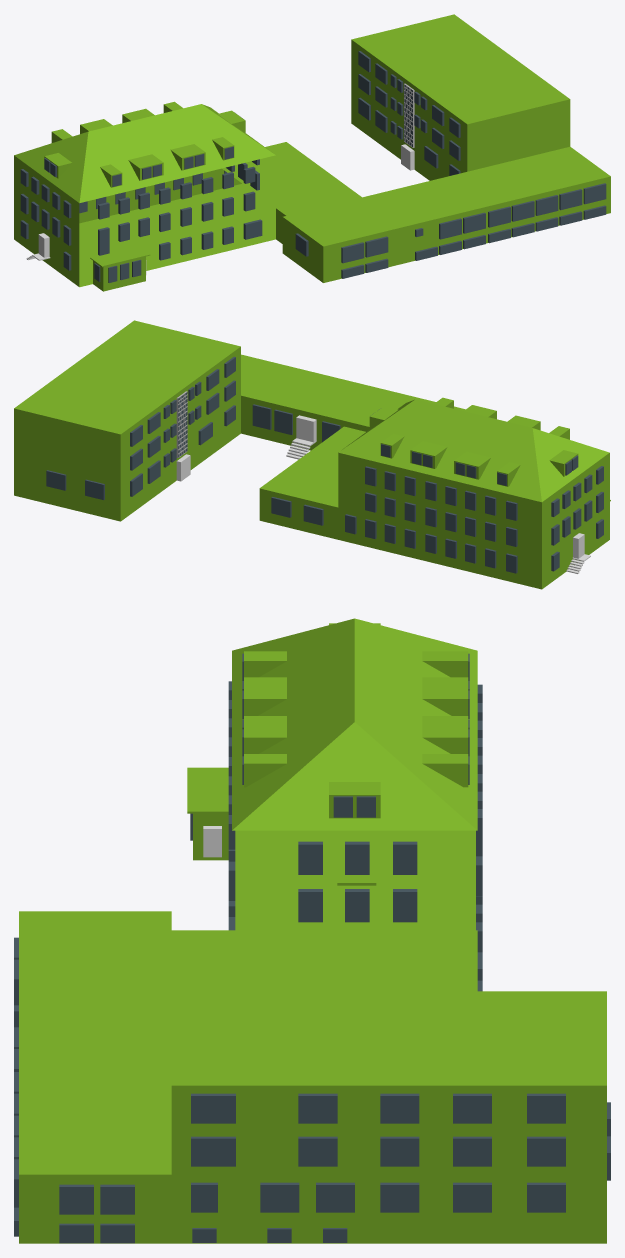
3 views of the same model, one above another, from view 1: azimuth 30°, elevation 25°; view 2: azimuth 150°, elevation 25°; view 3: azimuth 270°, elevation 25° (orthographic). The views are drawn at different scales.
Parts seen in each view (by area): view 1: C20_21; view 2: C20_21, Entrance.2, Stairs; view 3: C20_21.
Part boxes in pixels (x1,y1,x2,y2): C20_21: [14, 14, 610, 291]; C20_21: [14, 320, 610, 589]; Entrance.2: [296, 415, 316, 442]; Stairs: [286, 438, 316, 459]; C20_21: [14, 618, 610, 1243].
Size of the model in its own units: 54.67 by 13.02 by 30.84.
